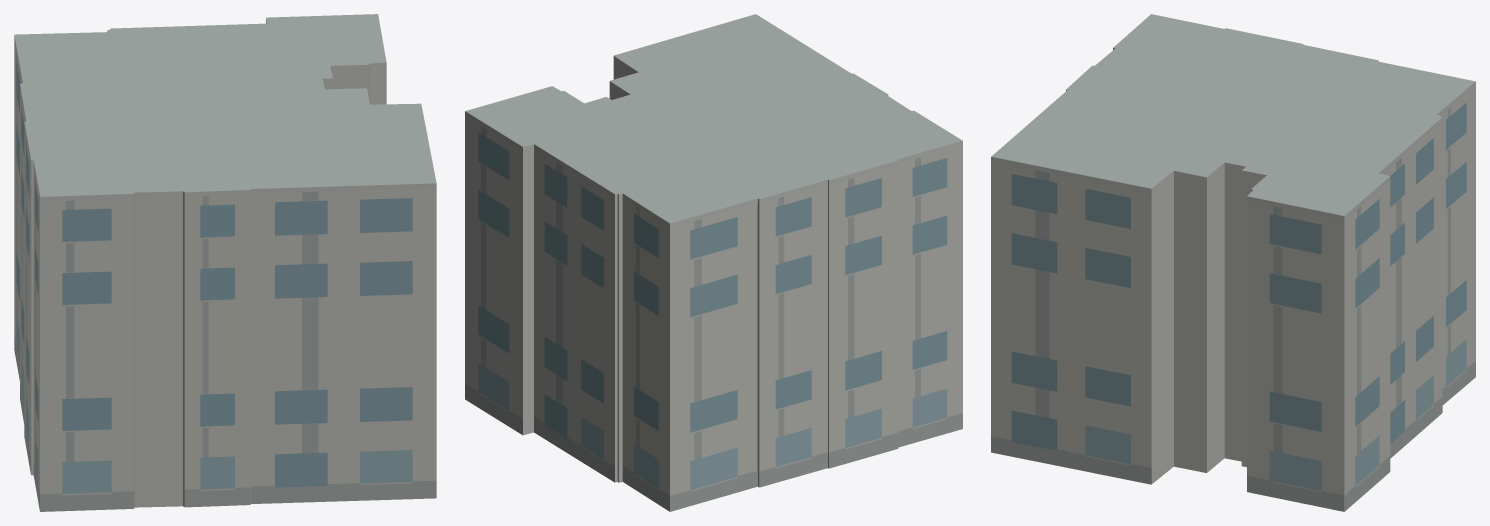
Rendered from survey-upis-32839428.glb.
3 views of the same model, side by side, from view 1: azimuth 30°, elevation 25°; view 2: azimuth 150°, elevation 25°; view 3: azimuth 270°, elevation 25° (orthographic). The views are drawn at different scales.
Parts seen in each view (by area): view 1: survey-upis-32839428.tmp; view 2: survey-upis-32839428.tmp; view 3: survey-upis-32839428.tmp.
Part boxes in pixels (x1=…): survey-upis-32839428.tmp: x1=14, y1=14, x2=436, y2=511; survey-upis-32839428.tmp: x1=465, y1=14, x2=962, y2=511; survey-upis-32839428.tmp: x1=991, y1=14, x2=1475, y2=511.
Size of the model in its own units: 22.96 by 15.67 by 23.28.
